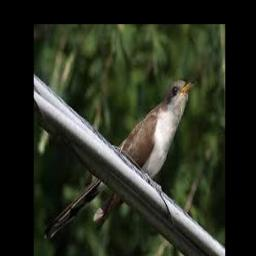Cuckoo: (45, 80, 196, 237)
